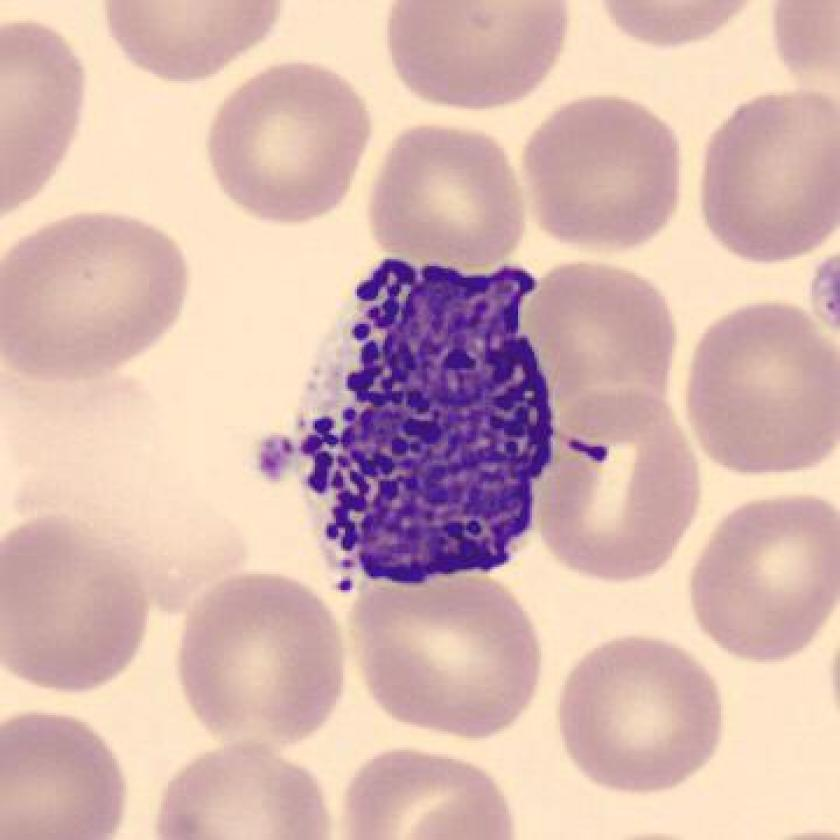basophil: (295, 253, 559, 591)
